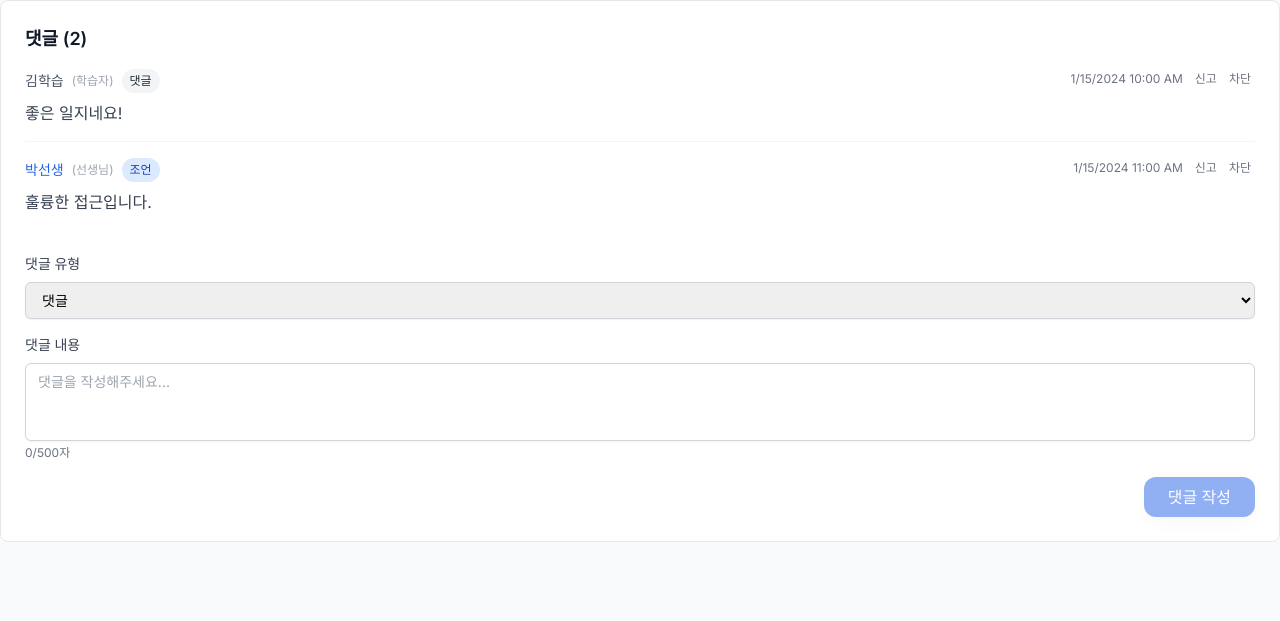
Test: CommentSection › handles comment submission error
Type "새로운 댓글" into the text box labelled "댓글 내용" at (640, 402), box [25, 363, 1255, 441]
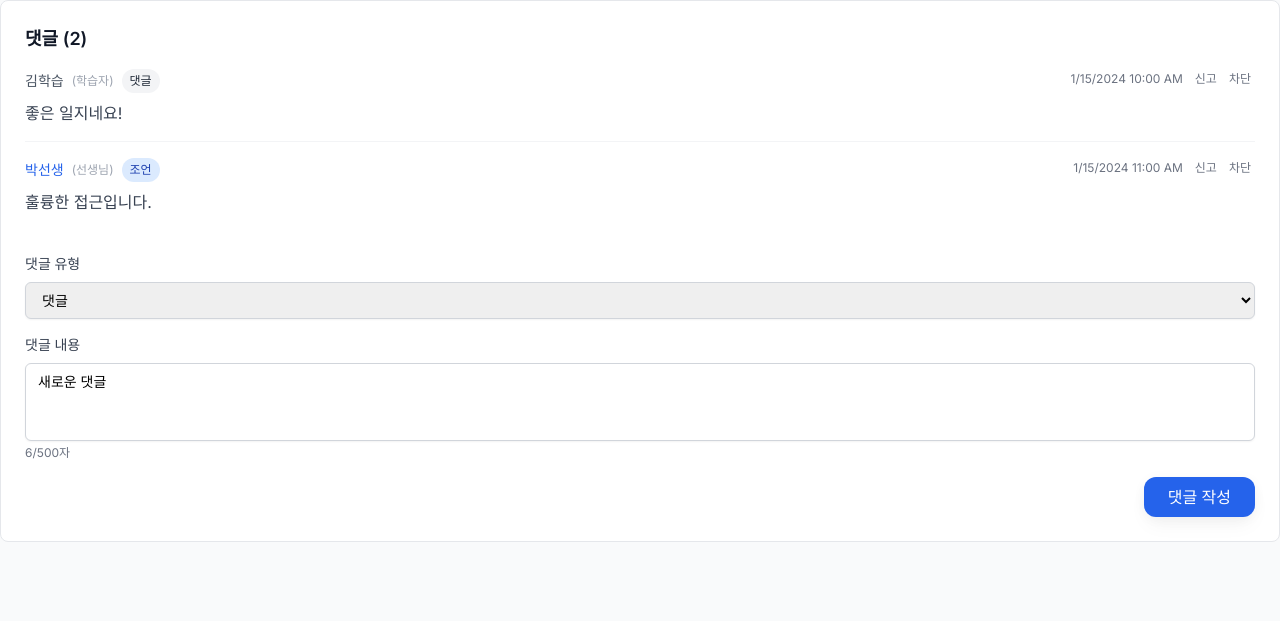
Click the button "댓글 작성" at (1199, 497), box [1144, 477, 1255, 517]
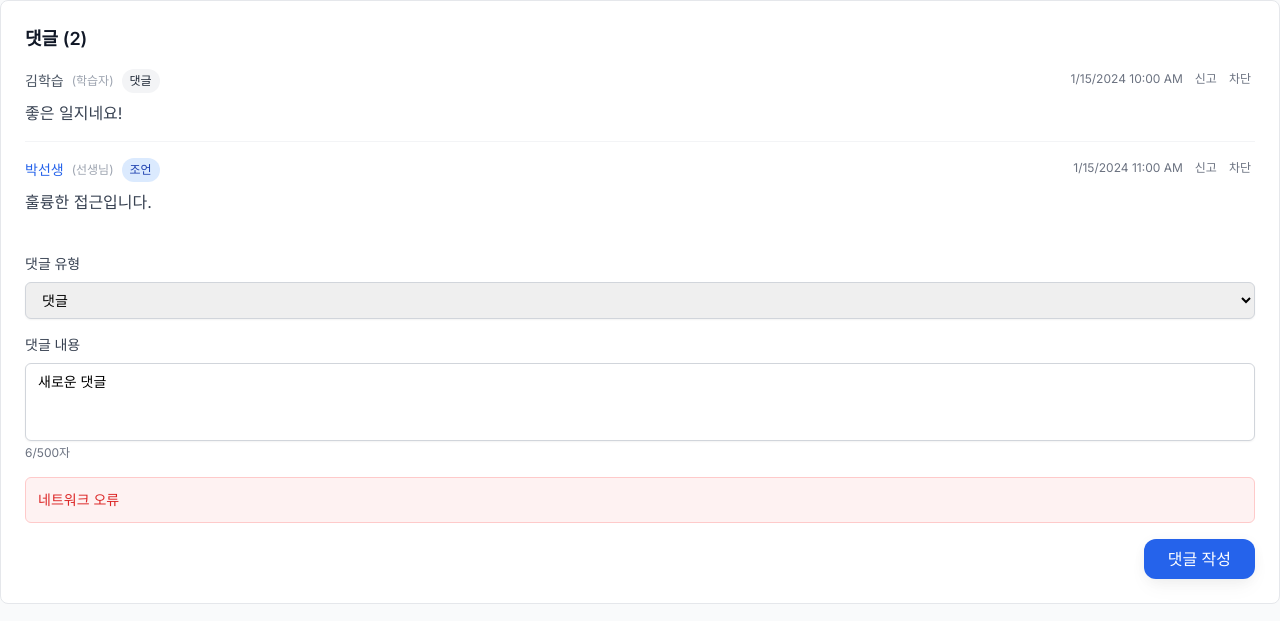
Expected: the text "네트워크 오류" is shown, [25, 477, 1255, 523]
